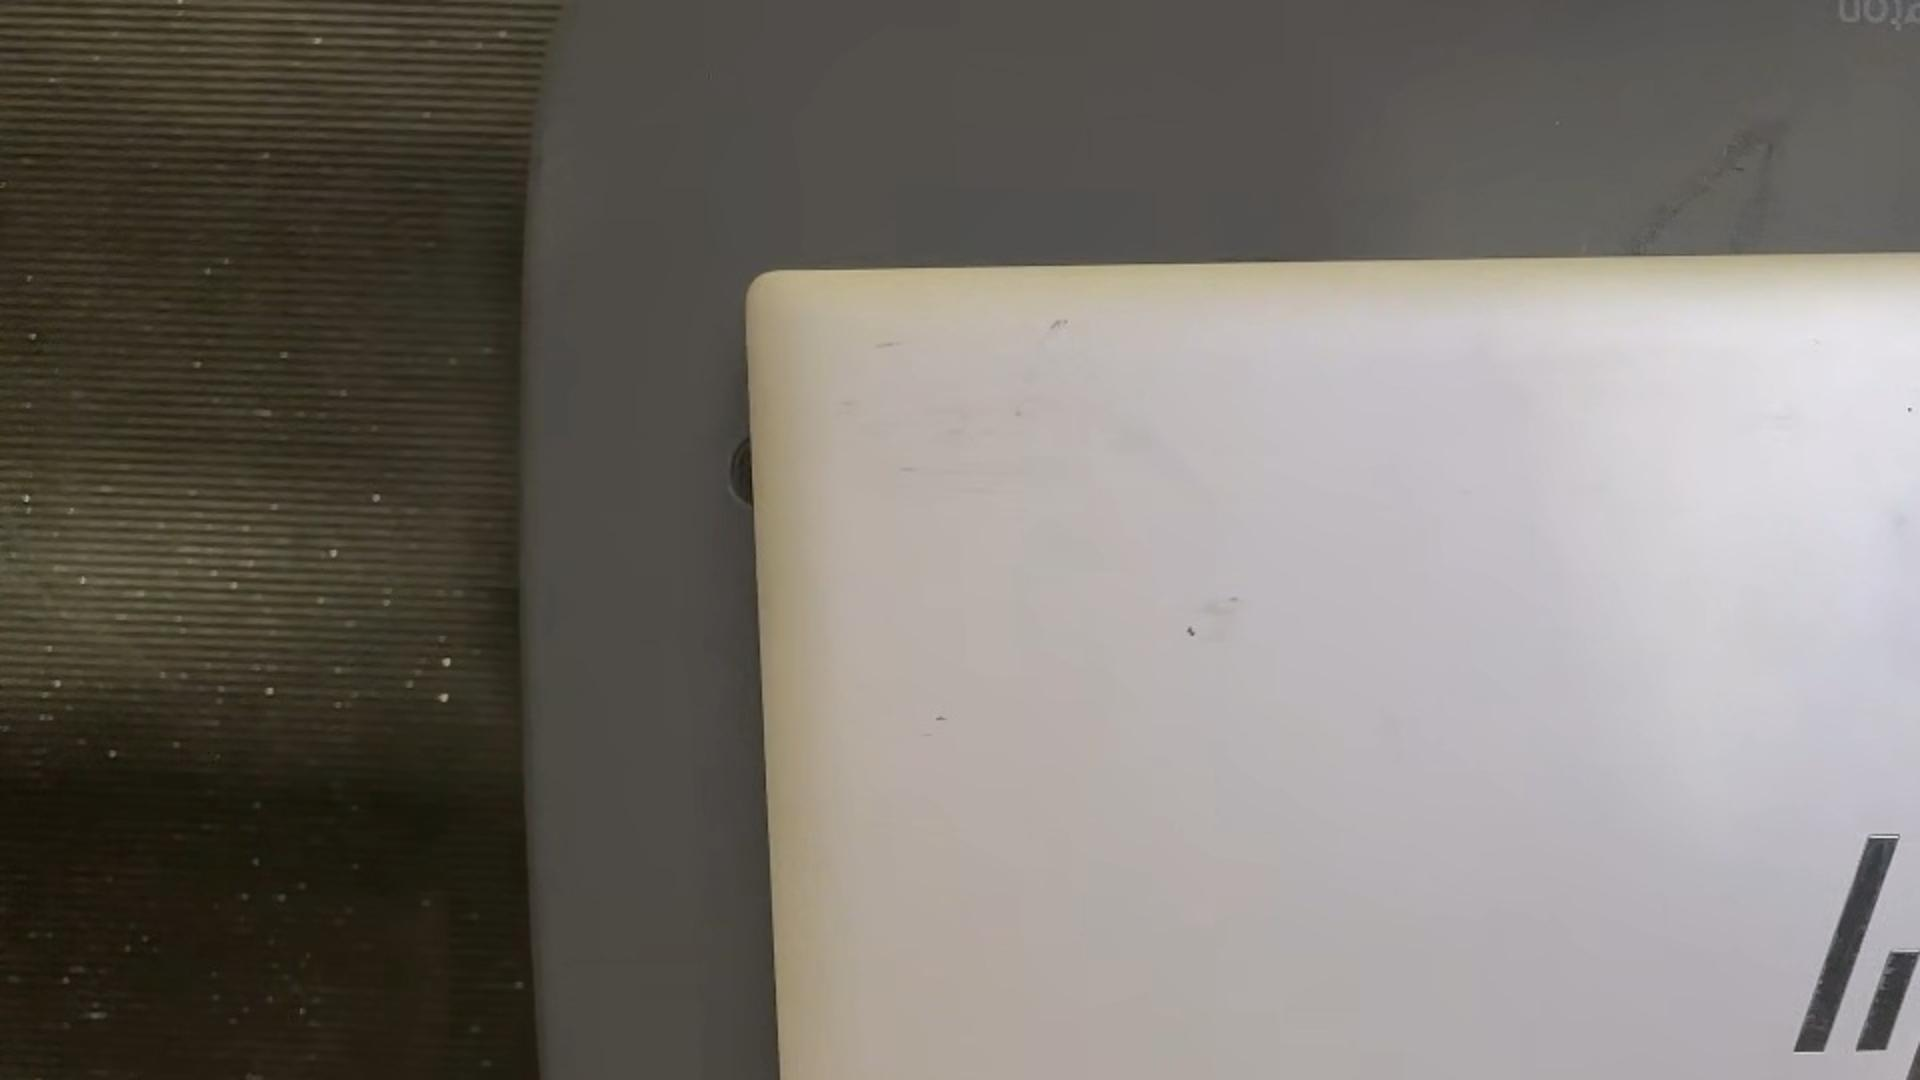chip: (1182, 621, 1203, 642), (1904, 404, 1917, 417)
scratches: (932, 713, 951, 723), (919, 732, 936, 737)
